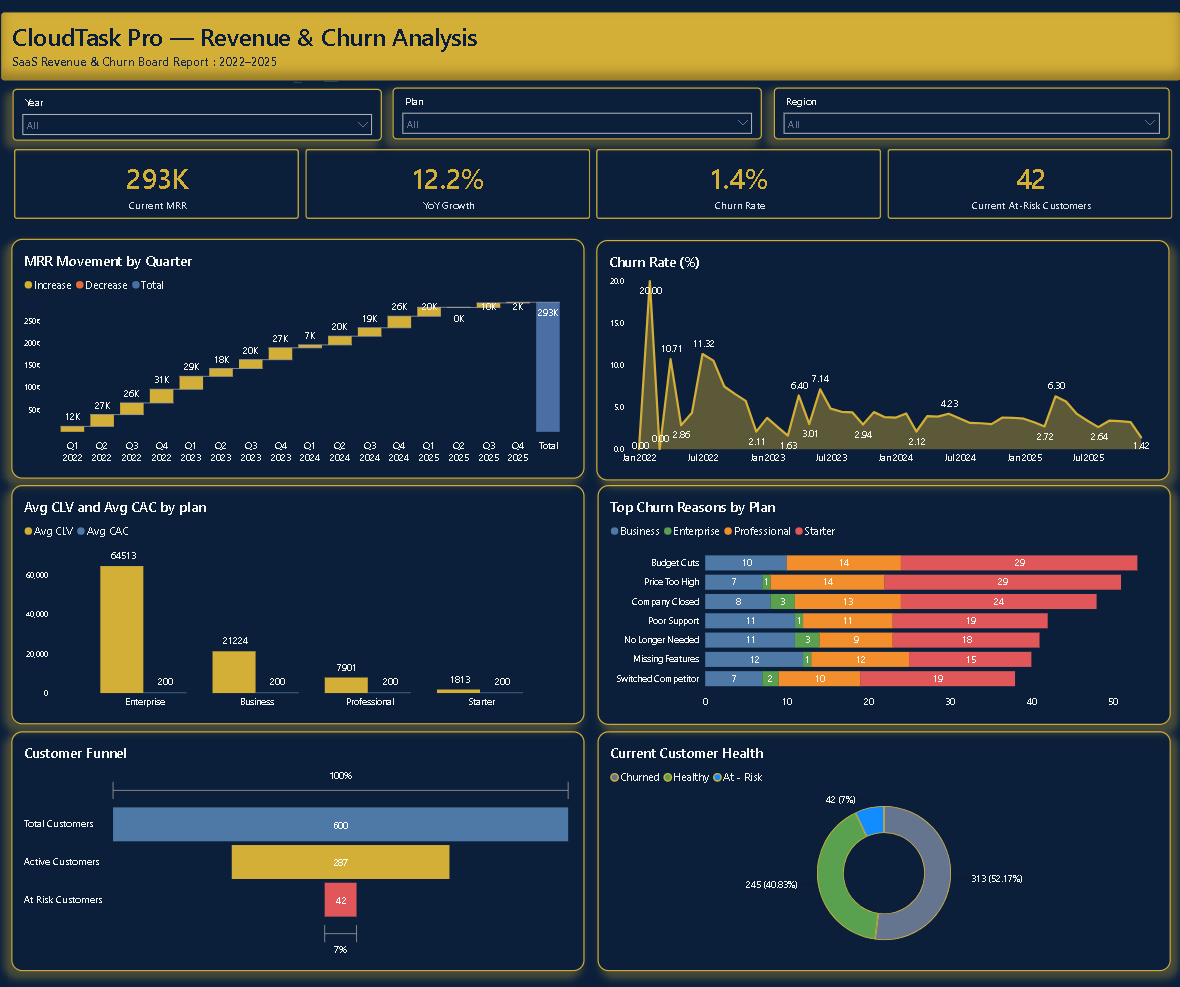

The dashboard page shown, as its layout file describes it:
{"tool":"powerbi","page":{"name":"CloudTask-Pro-SaaS-Churn-Analysi","canvas":[1600,1340],"ordinal":0},"visuals":[{"type":"cardVisual","fields":{"Data":["Monthly Measures.Current MRR","Monthly Measures.MRR YoY Growth %","Monthly Measures.Current Month Churn Rate","Subscription Measures.At Risk Customers"]},"box":[7.6,189.4,1592.4,119.7],"z":0},{"type":"slicer","fields":{"Values":["Date.Year"]},"box":[16.7,120,500,70],"z":1000},{"type":"slicer","title":"uhn","fields":{"Values":["subscriptions.plan"]},"box":[532,119,500,70],"z":2000},{"type":"slicer","fields":{"Values":["subscriptions.region"]},"box":[1048,119,536,70],"z":3000},{"type":"waterfallChart","title":"MRR Movement by Quarter","fields":{"Category":["Date.Quarter Label"],"Y":["Monthly Measures.MRR Change (MoM)"]},"box":[16,324,776,325],"z":4000},{"type":"funnel","title":"Customer Funnel","fields":{"Y":["Subscription Measures.Total Customers","Subscription Measures.Active Customers","Subscription Measures.At Risk Customers"]},"box":[16,990,776,325],"z":5000},{"type":"clusteredColumnChart","title":"Avg CLV and Avg CAC  by plan","fields":{"Category":["subscriptions.plan"],"Y":["Subscription Measures.Avg CLV","Monthly Measures.Avg CAC (Current Year)"]},"box":[15.7,657.1,775.7,324.3],"z":7000},{"type":"barChart","title":"Top Churn Reasons by Plan","fields":{"Category":["subscriptions.churn_reason"],"Series":["subscriptions.plan"],"Y":["CountNonNull(subscriptions.customer_id)"]},"box":[808,657,776,325],"z":8000},{"type":"donutChart","title":"Current Customer Health","fields":{"Category":["subscriptions.Health Status"],"Y":["CountNonNull(subscriptions.customer_id)"]},"box":[808,990,776,325],"z":9000},{"type":"textbox","box":[0,16,1600,95],"z":10000},{"type":"lineChart","title":"Churn Rate (%)","fields":{"Category":["monthly_revenue.month"],"Y":["Avg(monthly_revenue.monthly_churn_rate_pct)"]},"box":[807.6,324.2,775.8,325.8],"z":11000}]}

Visuals, with their boxes in screenshot pixels (x1, y1, x2, y2), scaled from the page's 1600x1340 canvas onto the 1180x987 screenshot:
cardVisual - Monthly Measures.Current MRR x Monthly Measures.MRR YoY Growth %: pyautogui.locateOnScreen(6, 140, 1179, 228)
slicer - Date.Year: pyautogui.locateOnScreen(12, 88, 381, 140)
"uhn" slicer: pyautogui.locateOnScreen(392, 88, 761, 139)
slicer - subscriptions.region: pyautogui.locateOnScreen(773, 88, 1168, 139)
"MRR Movement by Quarter" waterfallChart: pyautogui.locateOnScreen(12, 239, 584, 478)
"Customer Funnel" funnel: pyautogui.locateOnScreen(12, 729, 584, 969)
"Avg CLV and Avg CAC  by plan" clusteredColumnChart: pyautogui.locateOnScreen(12, 484, 584, 723)
"Top Churn Reasons by Plan" barChart: pyautogui.locateOnScreen(596, 484, 1168, 723)
"Current Customer Health" donutChart: pyautogui.locateOnScreen(596, 729, 1168, 969)
textbox: pyautogui.locateOnScreen(0, 12, 1179, 82)
"Churn Rate (%)" lineChart: pyautogui.locateOnScreen(596, 239, 1168, 479)
